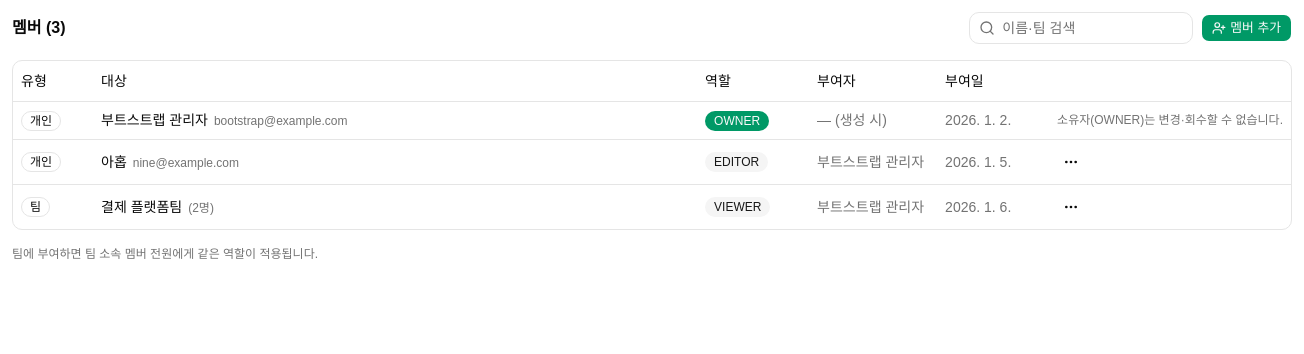
Test: 워크스페이스 멤버 탭 › shows management actions for the Owner — add button, role menu, revoke
Expected: the button "멤버 추가" is shown, [1201, 14, 1292, 42]
Expected: the text "아홉" is shown, [101, 154, 127, 170]
Note: EDITOR 행 메뉴 열기
Click the button named "작업" in the row of "아홉".
click(1071, 162)  # box [1057, 148, 1085, 176]
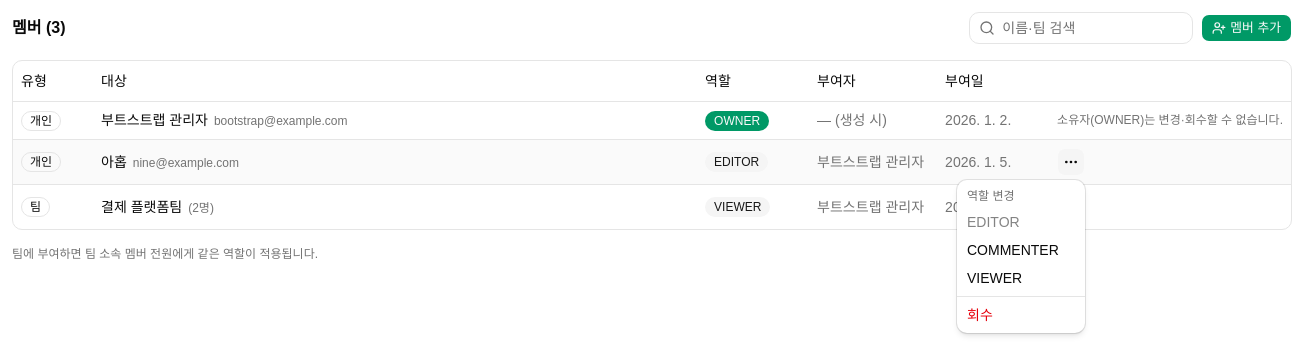
Expected: the menu is shown, [957, 180, 1085, 333]
Expected: the menu item "EDITOR" is shown, [967, 214, 1020, 230]
Expected: the menu item "COMMENTER" is shown, [967, 242, 1059, 258]
